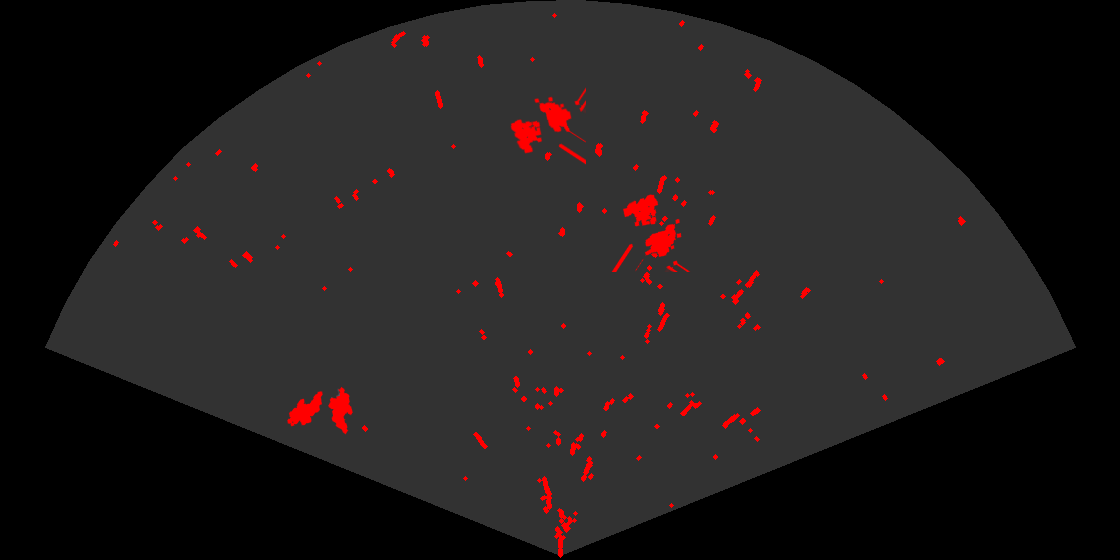AUV: (286, 390, 324, 428), (327, 385, 354, 436)
cage: (610, 193, 691, 272), (509, 86, 586, 166)
